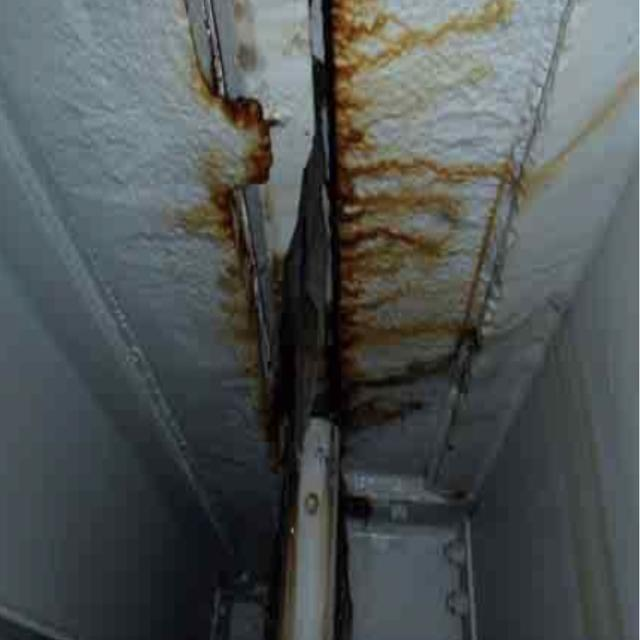corrosion: (186, 14, 491, 429)
